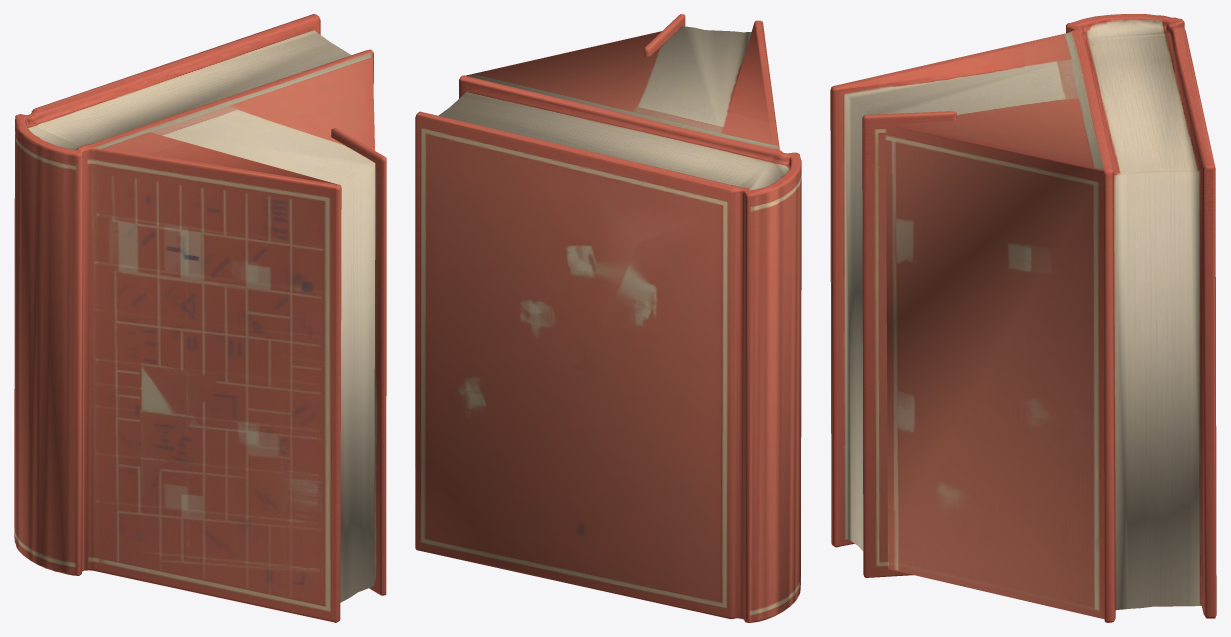
File: scaling-people.glb
3 renders of one model, left to right at view 1: azimuth 30°, elevation 25°; view 2: azimuth 150°, elevation 25°; view 3: azimuth 270°, elevation 25°, orthographic. The views are drawn at different scales.
Parts seen in each view (by area): view 1: Scaling People; view 2: Scaling People; view 3: Scaling People.
Part boxes in pixels (x1=…): Scaling People: x1=14, y1=14, x2=386, y2=622; Scaling People: x1=415, y1=14, x2=801, y2=622; Scaling People: x1=830, y1=14, x2=1216, y2=622.
Bounding box in the file's own units: 0.7988 × 0.998 × 0.7559.
Materials: 1 (1 with a texture image).
